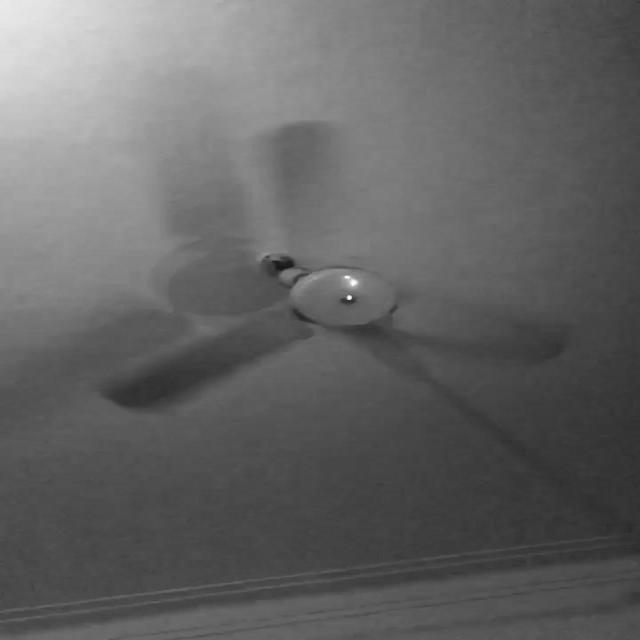fan: (88, 118, 620, 528)
light: (287, 266, 397, 327)
